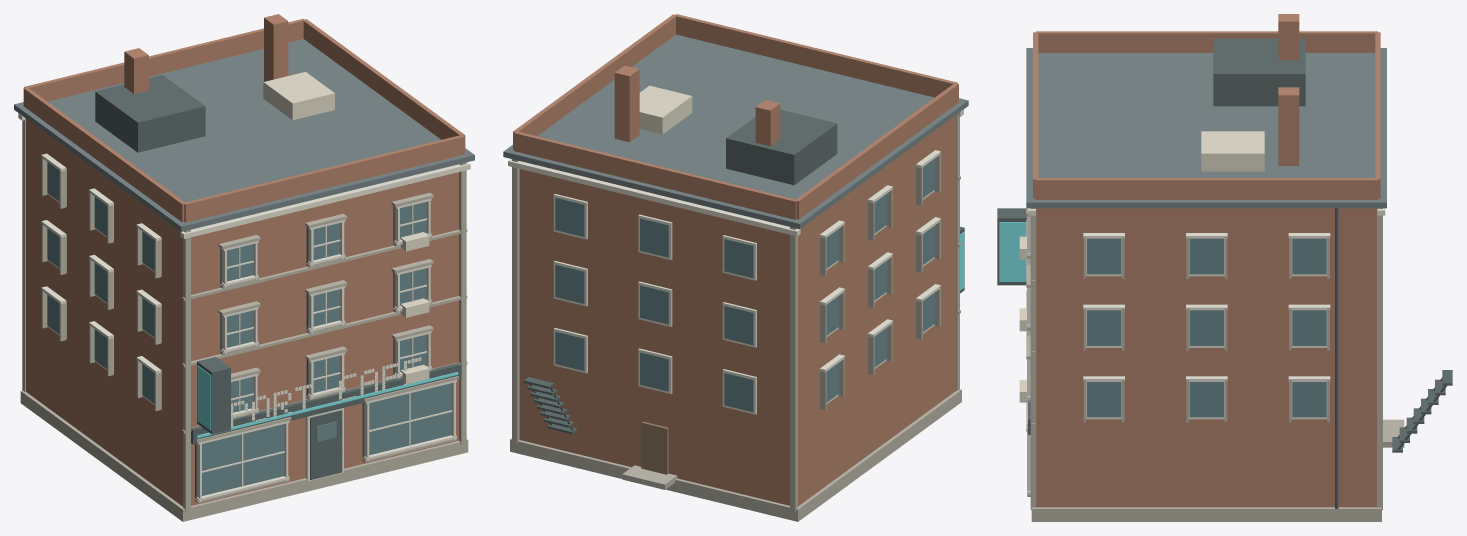
3 views of the same model, side by side, from view 1: azimuth 30°, elevation 25°; view 2: azimuth 150°, elevation 25°; view 3: azimuth 270°, elevation 25° (orthographic). The views are drawn at different scales.
Size of the model in its own units: 13.9 by 16.44 by 17.3.
